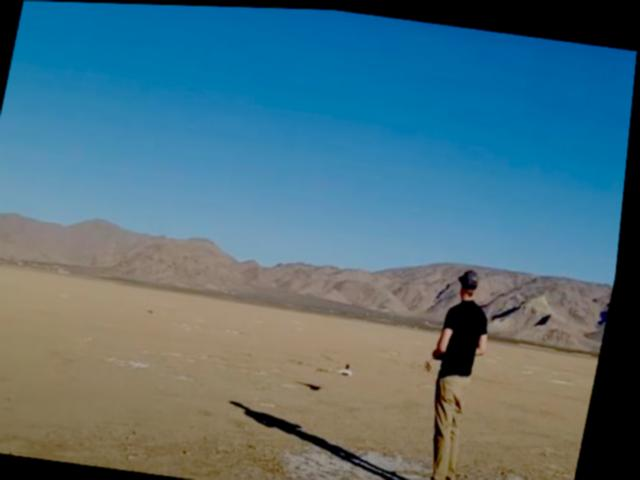iha: (324, 354, 364, 378)
